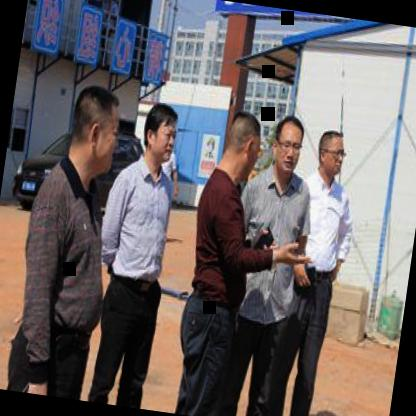head: (59, 73, 127, 184), (216, 103, 266, 186), (139, 98, 182, 167), (266, 110, 308, 180), (310, 124, 352, 182)
